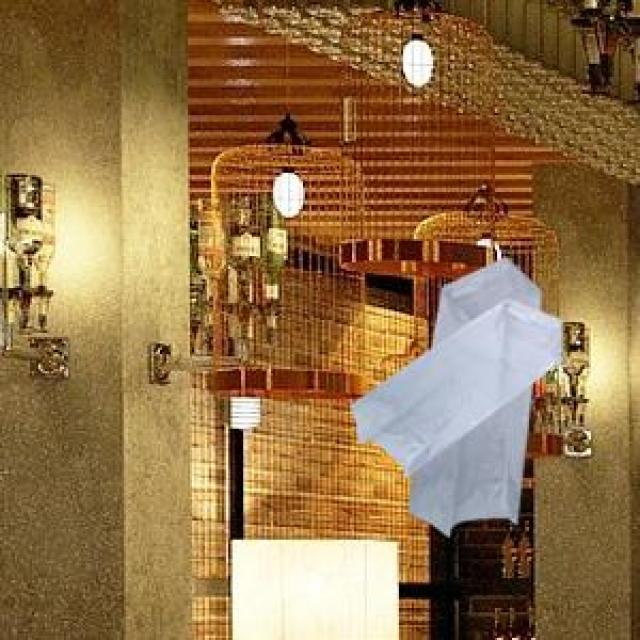plastic: (300, 187, 622, 580)
